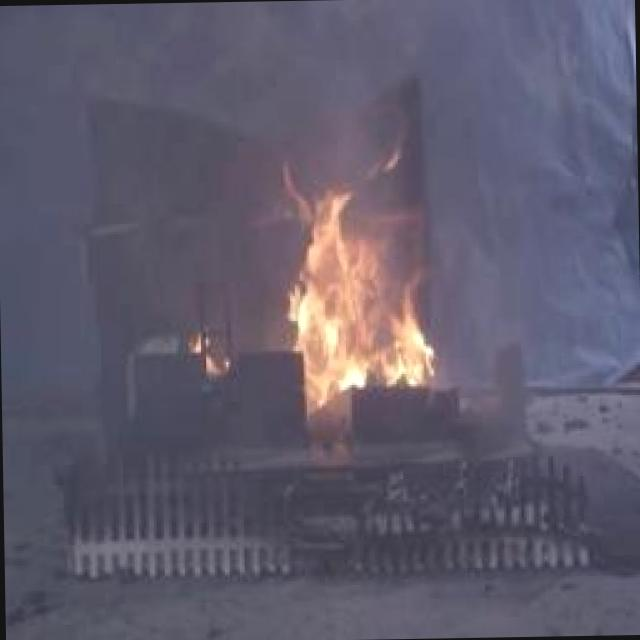fire: (286, 178, 425, 402)
